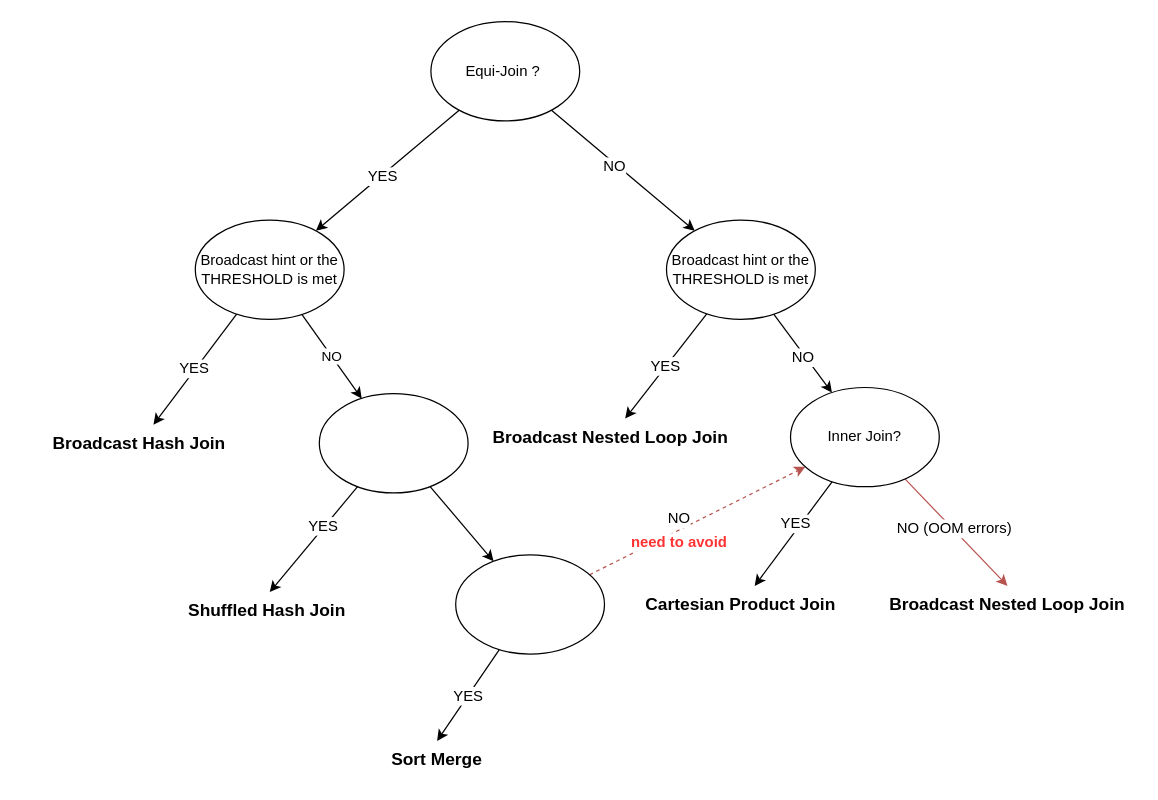
Some shapes in this 1158 by 800 pixel diagram are drawn without their labels. Each missing label, with the box of its shape:
Join Keys are Sortable?: (454, 554, 604, 654)
One relation at least 3X smaller and avg partition size meets the THRESHOLD: (318, 392, 468, 493)
